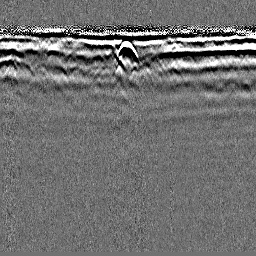cavity: (116, 40, 139, 62)
